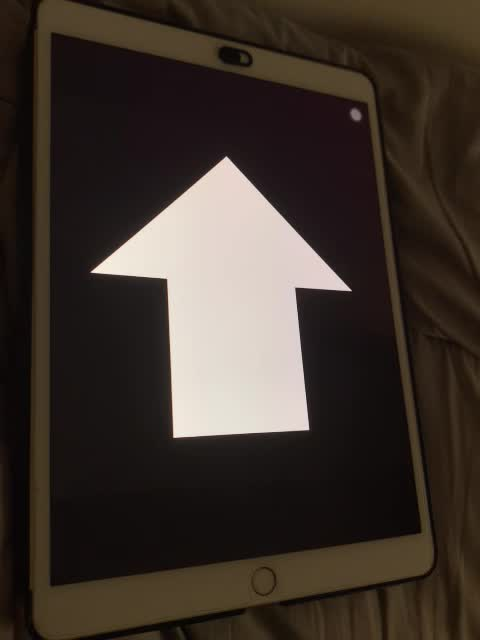up: (86, 154, 356, 442)
